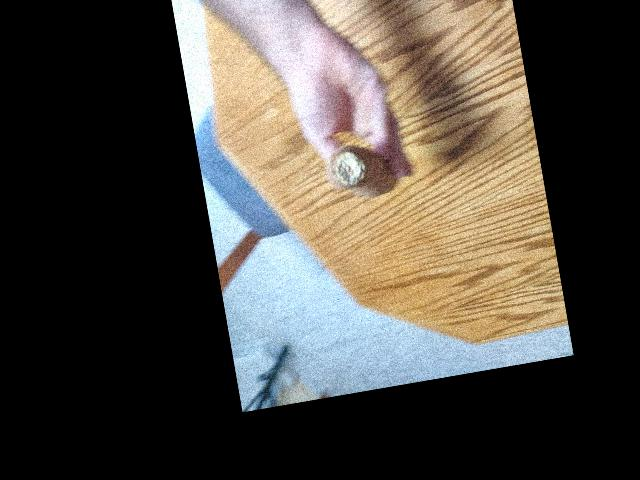sweet_potato: (312, 121, 405, 214)
